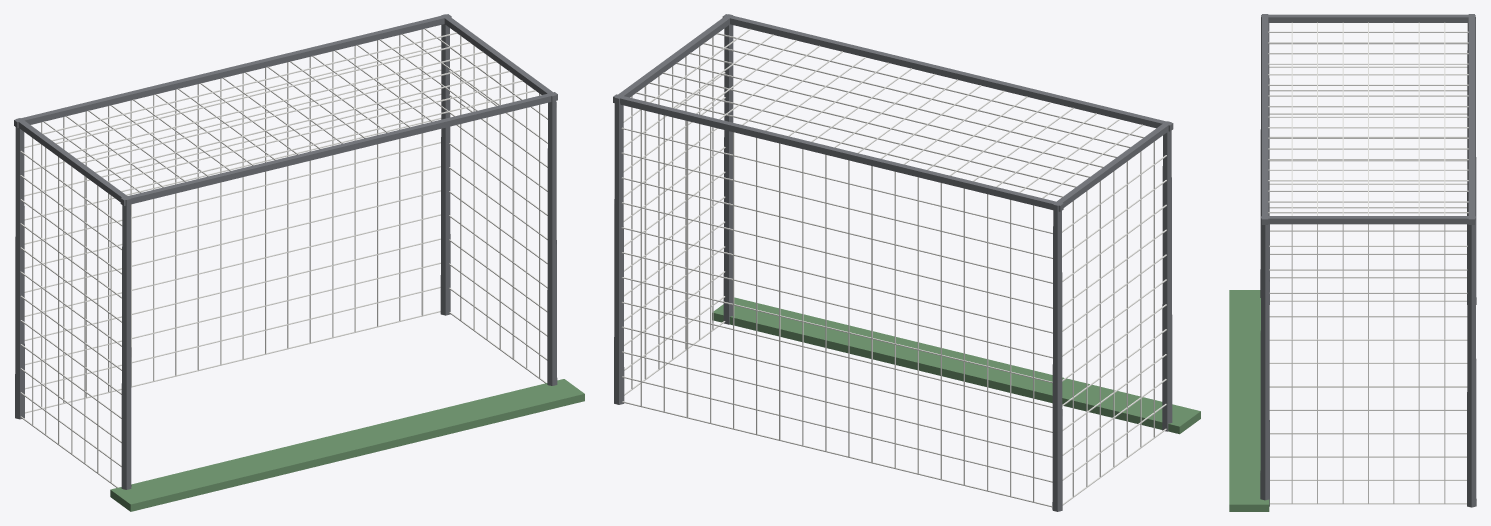
The model's file is golf-course-and-clubhouse-practice-net-491d1742__33498.glb.
The picture shows the model from 3 angles, left to right: view 1: azimuth 30°, elevation 25°; view 2: azimuth 150°, elevation 25°; view 3: azimuth 270°, elevation 25°; orthographic projection. The views are drawn at different scales.
Visible parts, largest first — view 1: practice-net; view 2: practice-net; view 3: practice-net.
Part boxes in pixels (x1,y1,x2,y2): practice-net: (14,14,584,511); practice-net: (613,14,1200,511); practice-net: (1229,14,1476,511).
Bounding box in the file's own units: 6.4 × 4 × 3.11.
